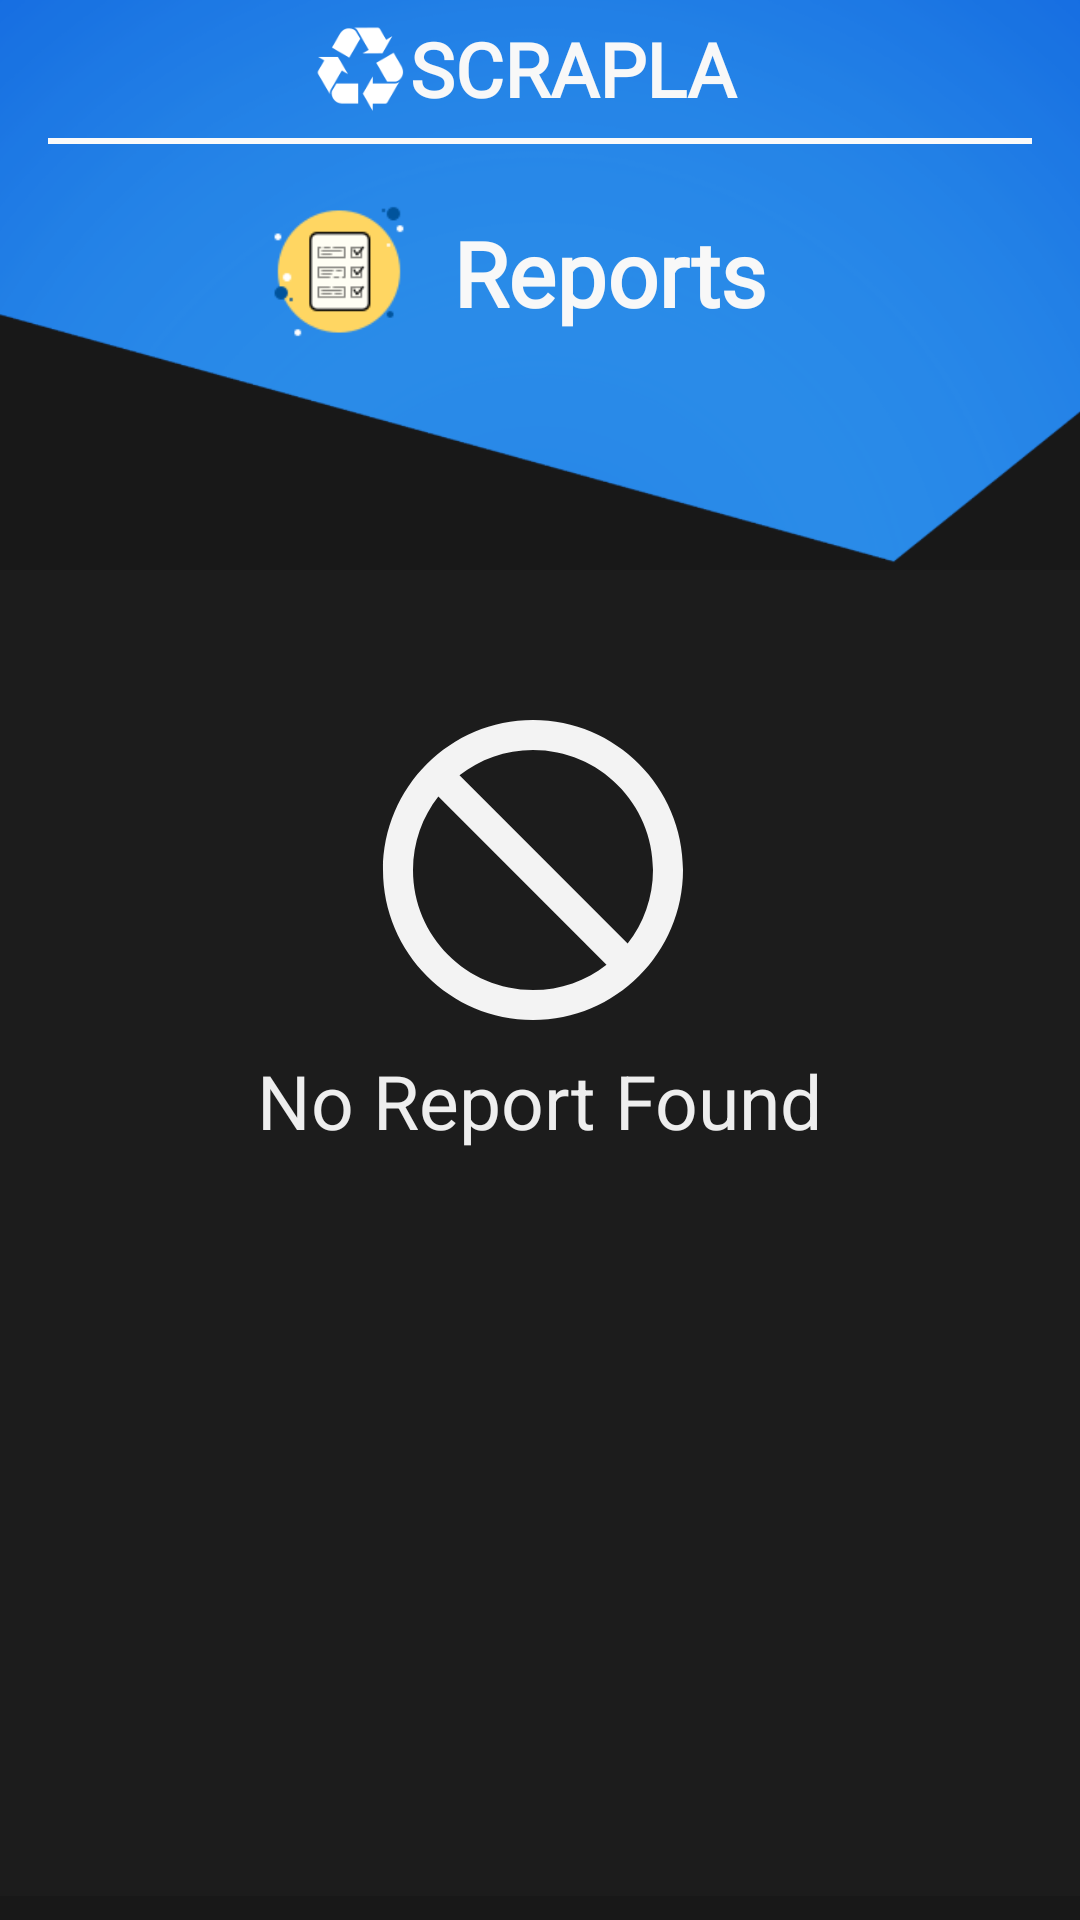

Where to tap for icons on this 1080*1920 app screen, as (x=x, y=y):
not interested: (x=533, y=870)
reportnew: (x=339, y=271)
